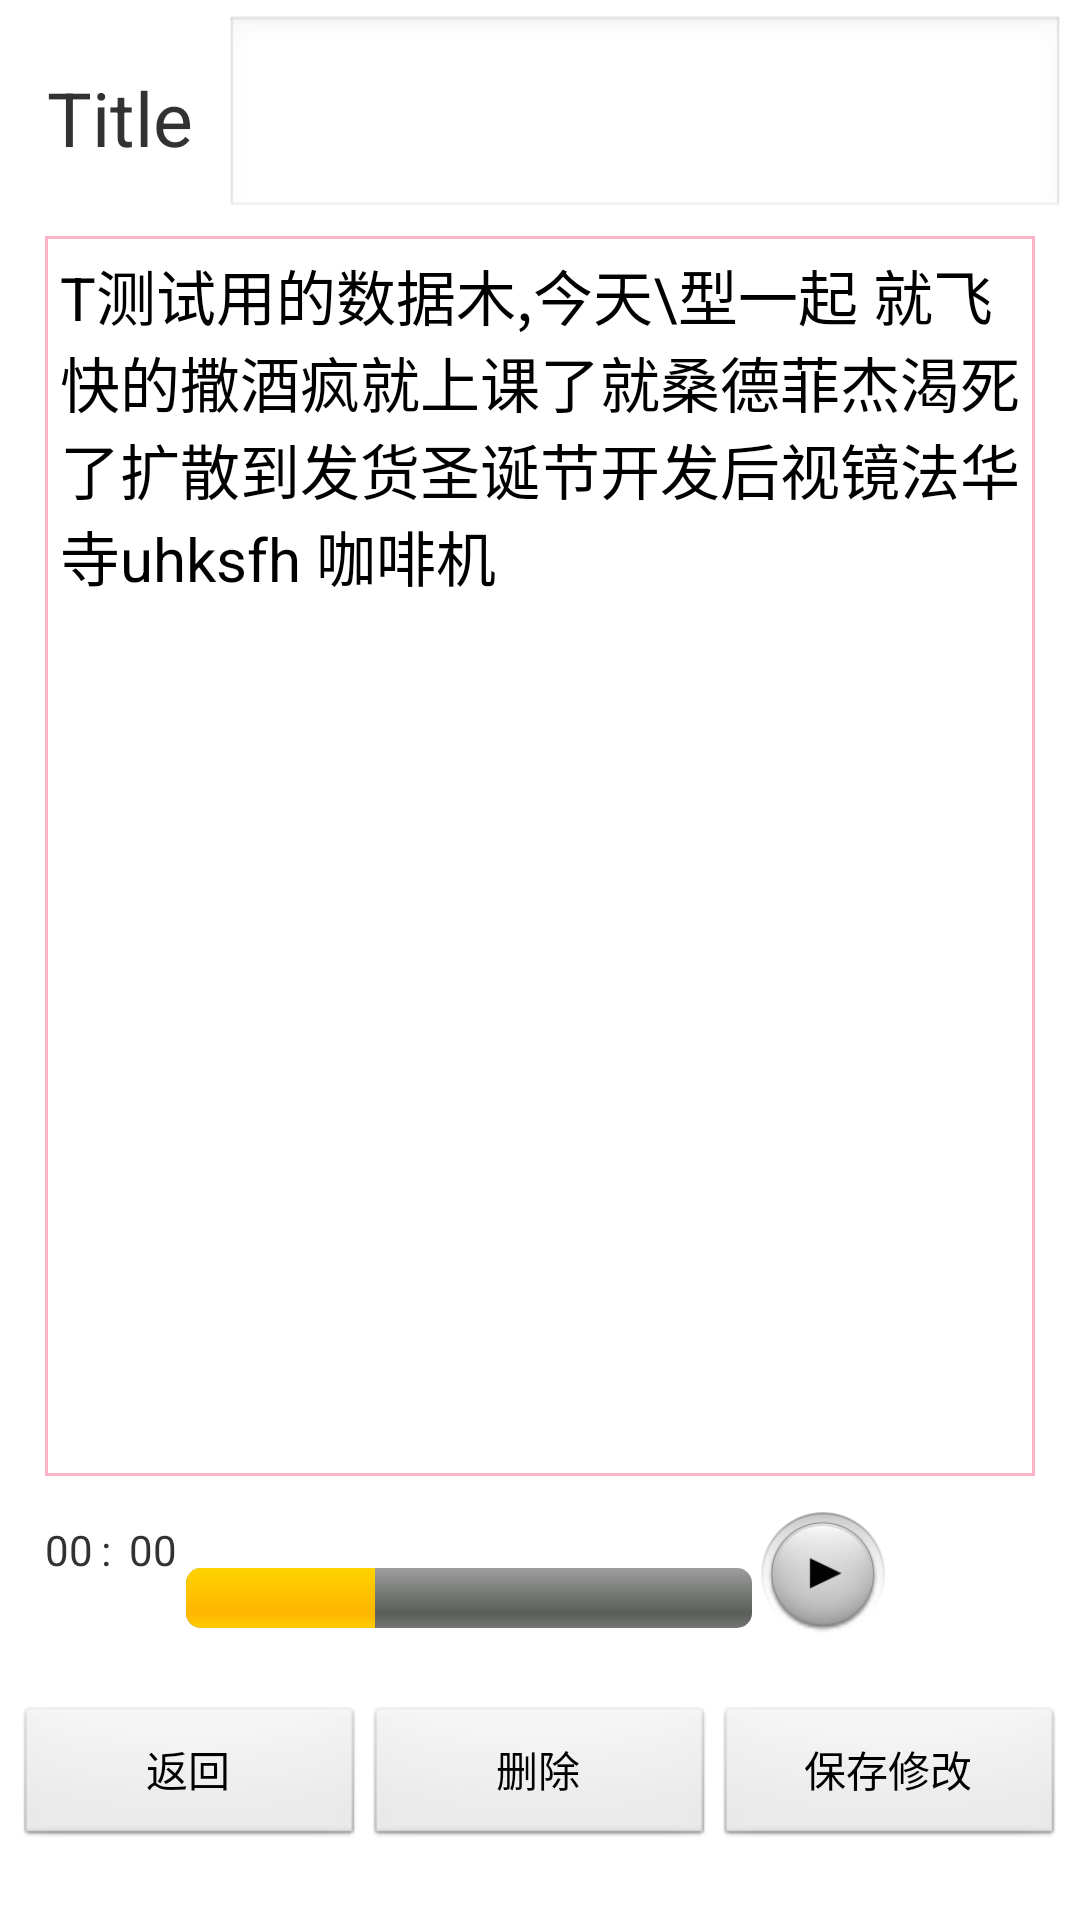

Locate icon controls on the screen. Image size 1080px×1920px, boxes as [x1=x1, y1=y1, x2=x2, y2=y2].
play: [x1=762, y1=1512, x2=884, y2=1630]
